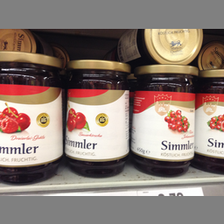jam: (1, 51, 62, 185), (65, 59, 132, 178), (134, 65, 197, 178), (115, 29, 204, 64), (197, 69, 224, 175)
